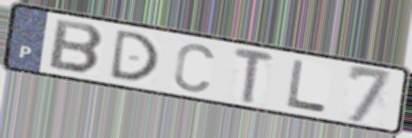7: (345, 62, 395, 126)
B: (46, 17, 107, 76)
C: (171, 41, 217, 94)
D: (107, 28, 162, 83)
L: (285, 58, 330, 115)
T: (232, 45, 277, 106)
